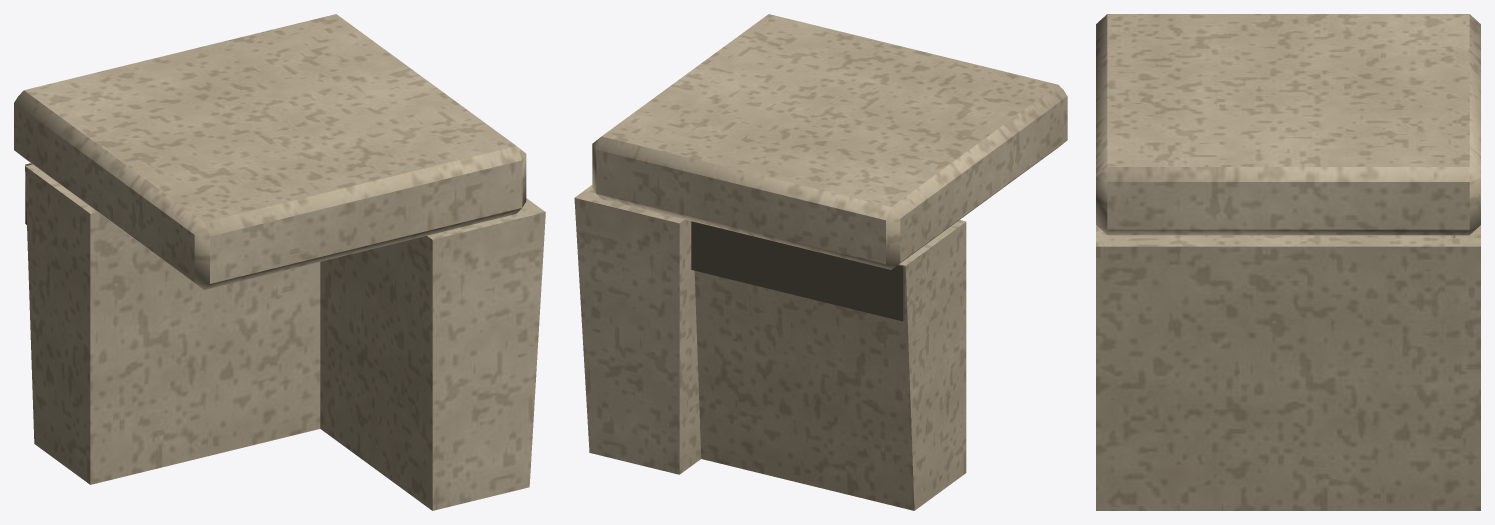
The model's file is water-coping-corner.lod1.glb.
3 views of the same model, side by side, from view 1: azimuth 30°, elevation 25°; view 2: azimuth 150°, elevation 25°; view 3: azimuth 270°, elevation 25° (orthographic). The views are drawn at different scales.
Parts seen in each view (by area): view 1: water_coping_corner_Stone • warm limestone; view 2: water_coping_corner_Stone • warm limestone, water_coping_corner_Trim • places palette; view 3: water_coping_corner_Stone • warm limestone.
Part boxes in pixels (box(x1,y1,x2,y2)): water_coping_corner_Stone • warm limestone: box(14, 14, 545, 510); water_coping_corner_Stone • warm limestone: box(574, 14, 1067, 510); water_coping_corner_Trim • places palette: box(691, 221, 904, 321); water_coping_corner_Stone • warm limestone: box(1096, 14, 1480, 510).
Size of the model in its own units: 0.427 by 0.4 by 0.41.
2 materials, 2 textured.
